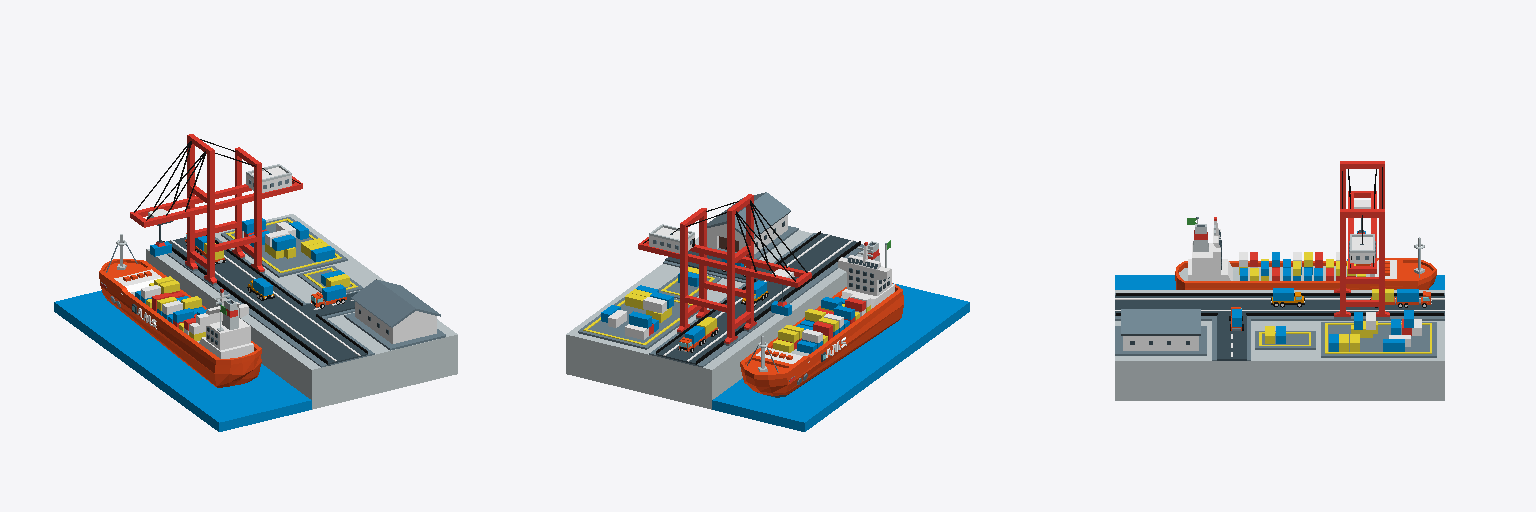
Rendered from amsterdam.obj.
The picture shows the model from 3 angles: view 1: azimuth 30°, elevation 25°; view 2: azimuth 150°, elevation 25°; view 3: azimuth 270°, elevation 25°; orthographic projection.
Parts seen in each view (by area): view 1: group[number redacted], group[number redacted], group[number redacted], group[number redacted], group[number redacted], group[number redacted], group[number redacted], group[number redacted], group[number redacted], group[number redacted], group[number redacted], group[number redacted] (+5 smaller); view 2: group[number redacted], group[number redacted], group[number redacted], group[number redacted], group[number redacted], group[number redacted], group[number redacted], group[number redacted], group[number redacted], group[number redacted], group[number redacted], group[number redacted] (+3 smaller); view 3: group[number redacted], group[number redacted], group[number redacted], group[number redacted], group[number redacted], group[number redacted], group[number redacted], group[number redacted], group[number redacted], group[number redacted], group[number redacted], group[number redacted] (+4 smaller).
Part boxes in pixels (x1,y1,x2,y2): group[number redacted]: (146,214,457,409); group[number redacted]: (99,234,261,387); group[number redacted]: (54,290,311,431); group[number redacted]: (168,237,367,365); group[number redacted]: (204,148,264,285); group[number redacted]: (351,280,415,327); group[number redacted]: (221,217,347,277); group[number redacted]: (167,237,374,367); group[number redacted]: (141,182,302,227); group[number redacted]: (185,134,197,269); group[number redacted]: (246,164,291,192); group[number redacted]: (344,313,445,350); group[number redacted]: (566,230,863,409); group[number redacted]: (740,240,903,397); group[number redacted]: (712,283,969,431); group[number redacted]: (656,233,857,364); group[number redacted]: (696,194,756,331); group[number redacted]: (578,297,698,349); group[number redacted]: (649,233,863,367); group[number redacted]: (724,208,737,343); group[number redacted]: (638,242,799,287); group[number redacted]: (735,192,790,238); group[number redacted]: (677,222,689,332); group[number redacted]: (678,317,718,352); group[number redacted]: (1115,290,1444,400); group[number redacted]: (1175,217,1436,289); group[number redacted]: (1115,295,1444,315); group[number redacted]: (1121,309,1200,335); group[number redacted]: (1321,322,1436,357); group[number redacted]: (1217,314,1246,360); group[number redacted]: (1115,275,1444,289); group[number redacted]: (1334,161,1350,318); group[number redacted]: (1115,326,1206,355); group[number redacted]: (1115,293,1444,320); group[number redacted]: (1128,338,1193,350); group[number redacted]: (1370,289,1431,307).
Size of the model in its own units: 3.9 by 2.71 by 4.67.